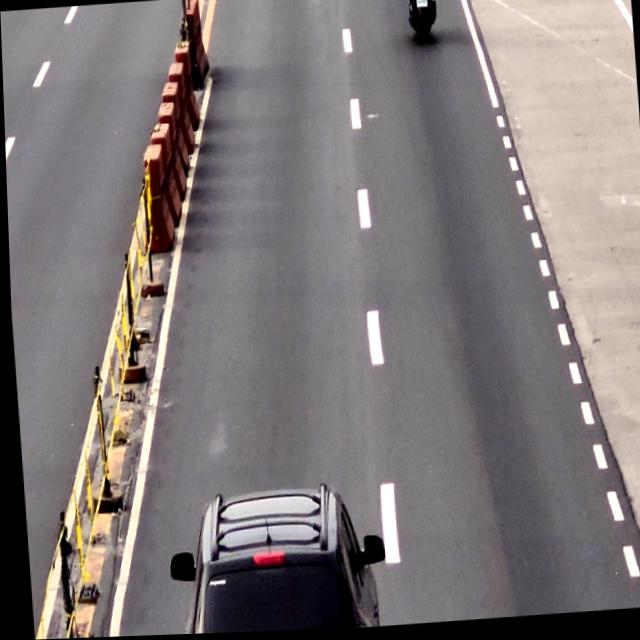Car: (173, 487, 376, 635)
